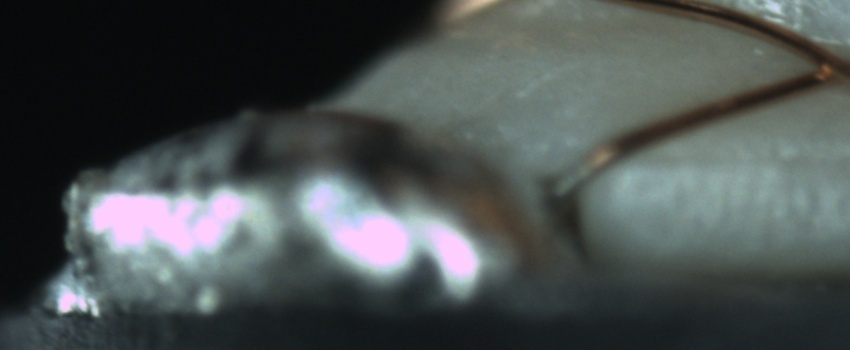CL: (795, 31, 850, 92)
DL: (633, 126, 849, 190)
TS: (550, 165, 594, 202)
